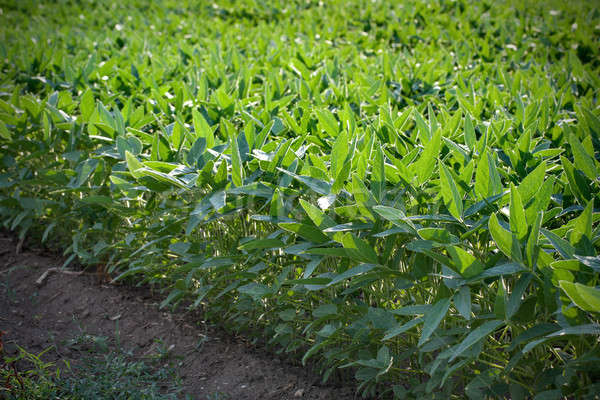soyabean: (239, 51, 595, 392)
